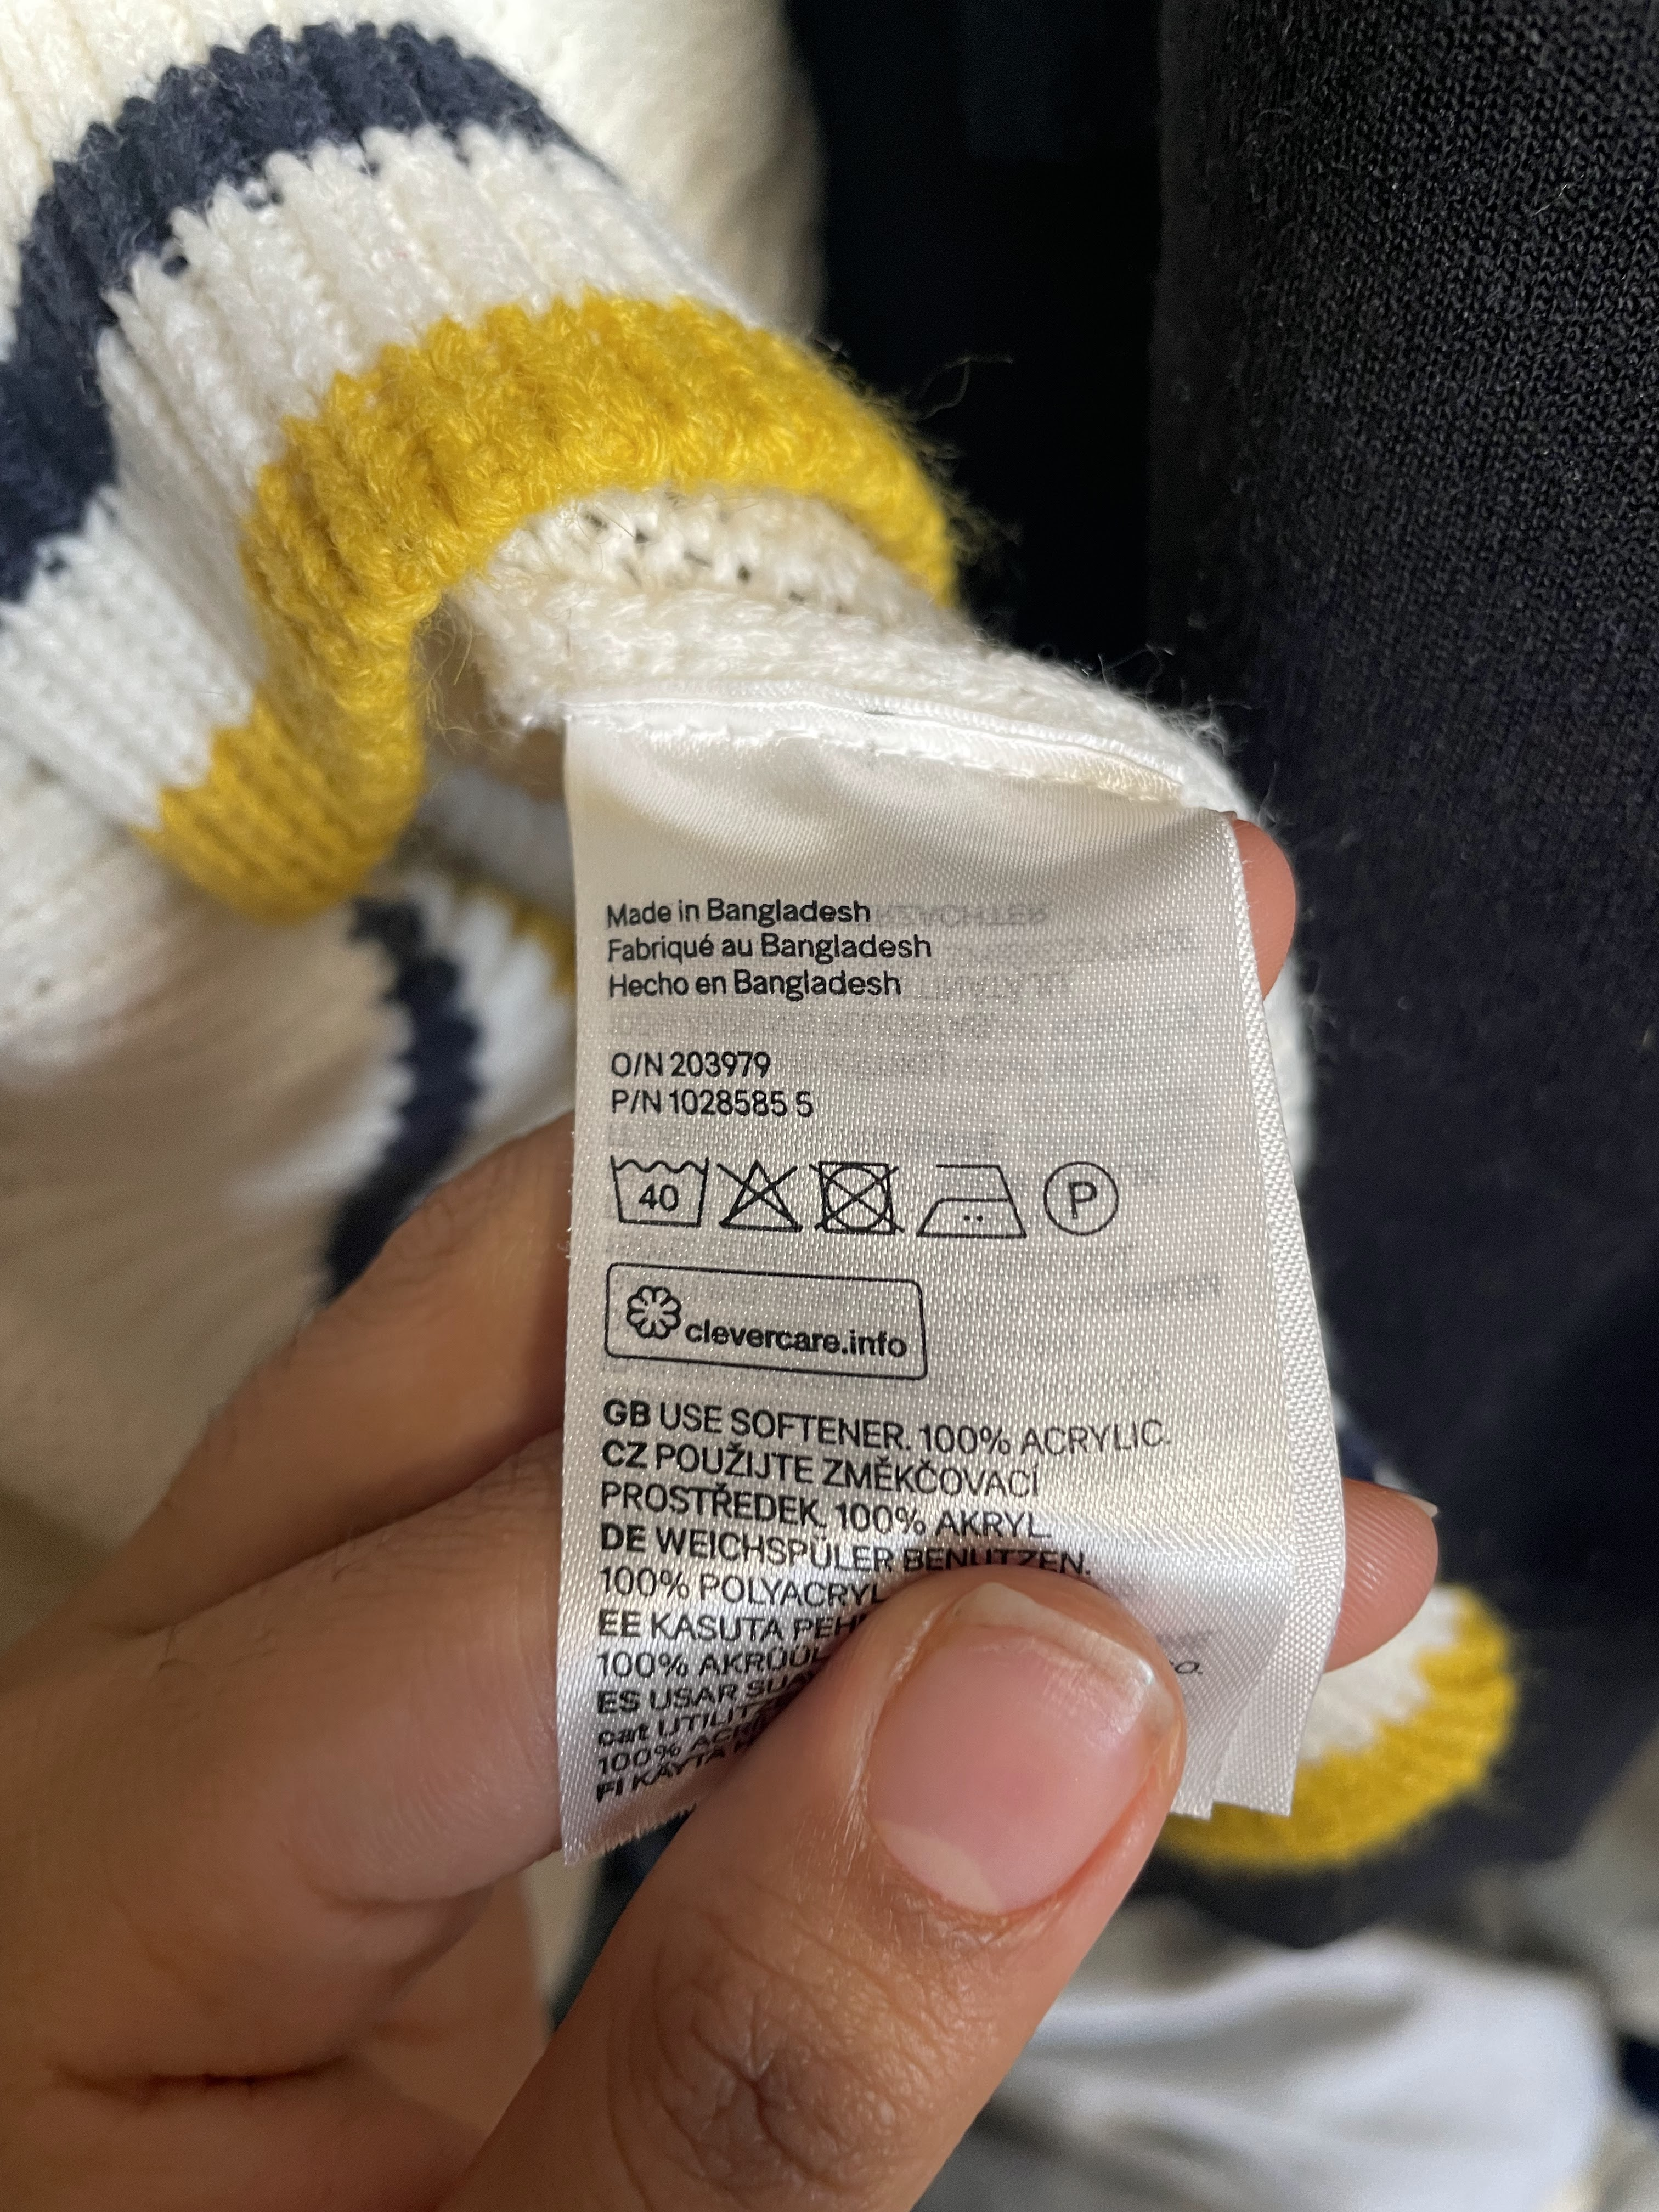do not bleach: (720, 1150, 803, 1251)
do not tumble dry: (805, 1137, 904, 1251)
dry clean: (1035, 1151, 1157, 1273)
iron medium temp: (911, 1146, 1042, 1277)
wash at or below 40: (591, 1144, 720, 1245)
